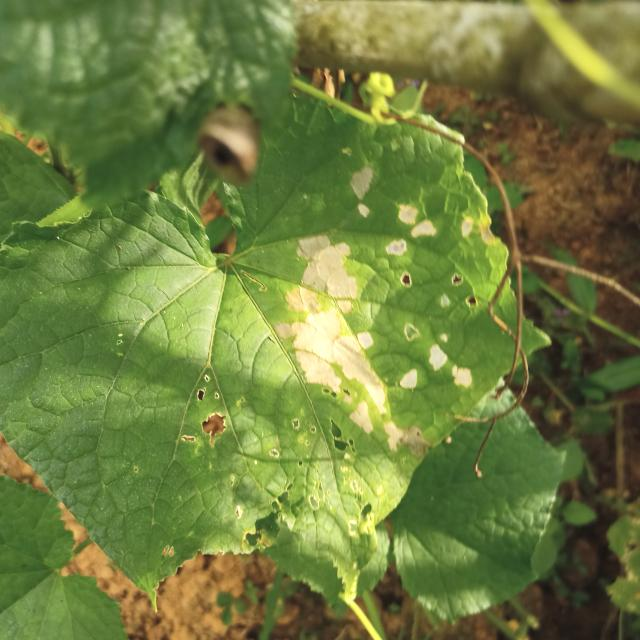disease_cucumber: (282, 160, 492, 460)
